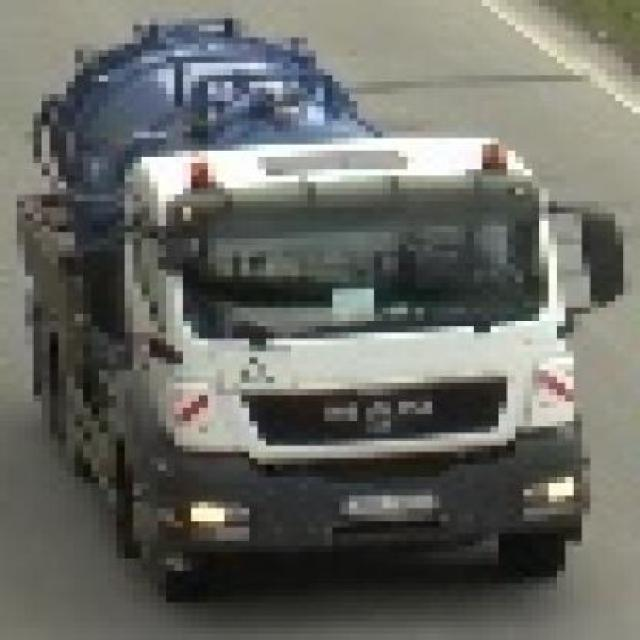truck: (34, 7, 625, 584)
